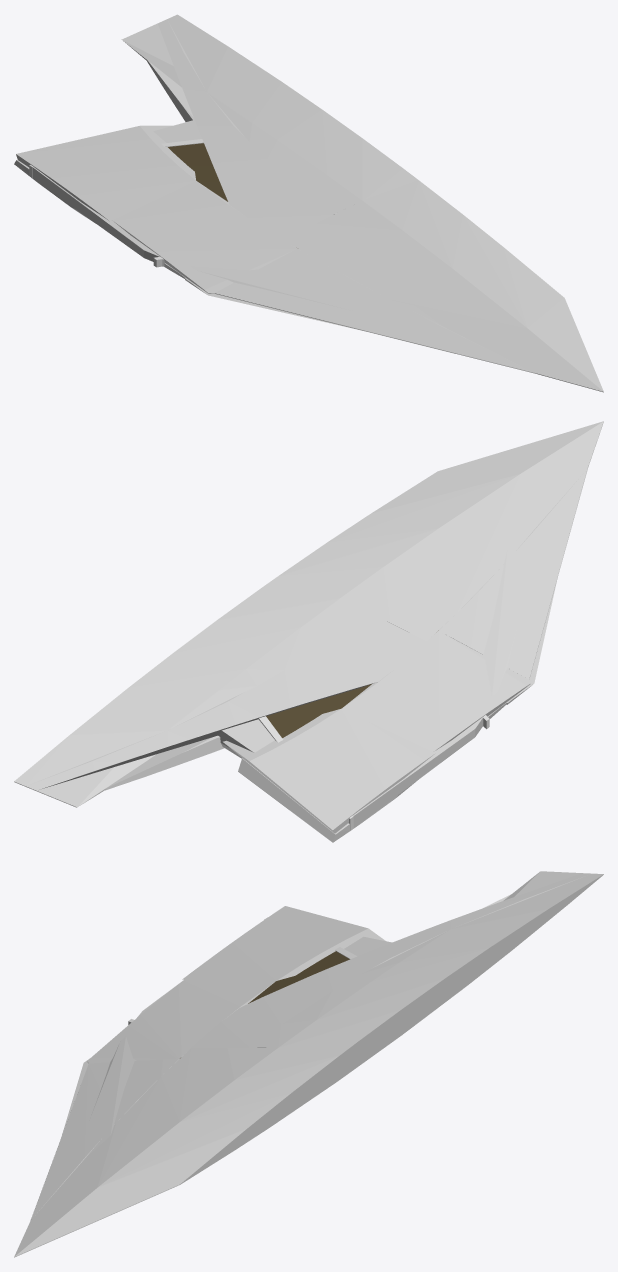
File: wing_spar_R.fbx
3 renders of one model, top to bottom at view 1: azimuth 30°, elevation 25°; view 2: azimuth 150°, elevation 25°; view 3: azimuth 330°, elevation 25°, orthographic. The views are drawn at different scales.
Visible parts, largest first — view 1: wing_spar_R_colmesh8, wing_spar_R_colmesh10, wing_spar_R_colmesh6, wing_spar_R_colmesh7, wing_spar_R_colmesh9, wing_spar_R_colmesh5, wing_spar_R_colmesh11, wing_spar_R, wing_spar_R_colmesh4, wing_spar_R_colmesh3; view 2: wing_spar_R_colmesh8, wing_spar_R_colmesh10, wing_spar_R_colmesh9, wing_spar_R_colmesh7, wing_spar_R_colmesh6, wing_spar_R_colmesh5, wing_spar_R_colmesh11, wing_spar_R, wing_spar_R_colmesh4, wing_spar_R_colmesh1, wing_spar_R_colmesh3; view 3: wing_spar_R_colmesh8, wing_spar_R_colmesh10, wing_spar_R_colmesh7, wing_spar_R_colmesh9, wing_spar_R_colmesh6, wing_spar_R_colmesh5, wing_spar_R_colmesh4, wing_spar_R_colmesh11, wing_spar_R_colmesh2, wing_spar_R.
Part boxes in pixels (x1=…): wing_spar_R_colmesh8: x1=283, y1=180, x2=603, y2=392; wing_spar_R_colmesh10: x1=167, y1=14, x2=418, y2=212; wing_spar_R_colmesh6: x1=112, y1=181, x2=297, y2=293; wing_spar_R_colmesh7: x1=16, y1=125, x2=195, y2=220; wing_spar_R_colmesh9: x1=158, y1=19, x2=336, y2=239; wing_spar_R_colmesh5: x1=215, y1=248, x2=537, y2=374; wing_spar_R_colmesh11: x1=32, y1=120, x2=442, y2=326; wing_spar_R: x1=29, y1=139, x2=336, y2=267; wing_spar_R_colmesh4: x1=121, y1=23, x2=181, y2=87; wing_spar_R_colmesh3: x1=147, y1=60, x2=194, y2=121; wing_spar_R_colmesh8: x1=278, y1=421, x2=603, y2=641; wing_spar_R_colmesh10: x1=14, y1=576, x2=367, y2=786; wing_spar_R_colmesh9: x1=26, y1=612, x2=426, y2=790; wing_spar_R_colmesh7: x1=223, y1=708, x2=435, y2=833; wing_spar_R_colmesh6: x1=342, y1=631, x2=530, y2=751; wing_spar_R_colmesh5: x1=439, y1=467, x2=588, y2=679; wing_spar_R_colmesh11: x1=218, y1=530, x2=533, y2=827; wing_spar_R: x1=258, y1=630, x2=489, y2=830; wing_spar_R_colmesh4: x1=14, y1=754, x2=155, y2=807; wing_spar_R_colmesh1: x1=238, y1=702, x2=506, y2=842; wing_spar_R_colmesh3: x1=105, y1=735, x2=224, y2=790; wing_spar_R_colmesh8: x1=14, y1=1047, x2=339, y2=1257; wing_spar_R_colmesh10: x1=250, y1=873, x2=603, y2=1067; wing_spar_R_colmesh7: x1=182, y1=906, x2=385, y2=980; wing_spar_R_colmesh9: x1=191, y1=873, x2=591, y2=1048; wing_spar_R_colmesh6: x1=87, y1=979, x2=275, y2=1063; wing_spar_R_colmesh5: x1=30, y1=1059, x2=178, y2=1220; wing_spar_R_colmesh4: x1=339, y1=871, x2=603, y2=1079; wing_spar_R_colmesh11: x1=85, y1=936, x2=391, y2=1158; wing_spar_R_colmesh2: x1=182, y1=1068, x2=339, y2=1183; wing_spar_R: x1=128, y1=917, x2=357, y2=1058.
Size of the model in its own units: 1.38 by 0.3524 by 5.05.
